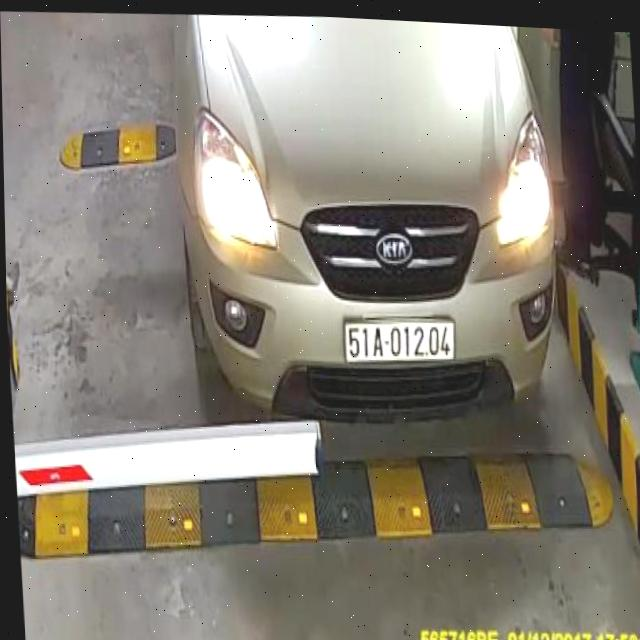car: (160, 8, 571, 438)
plate: (336, 313, 459, 371)
